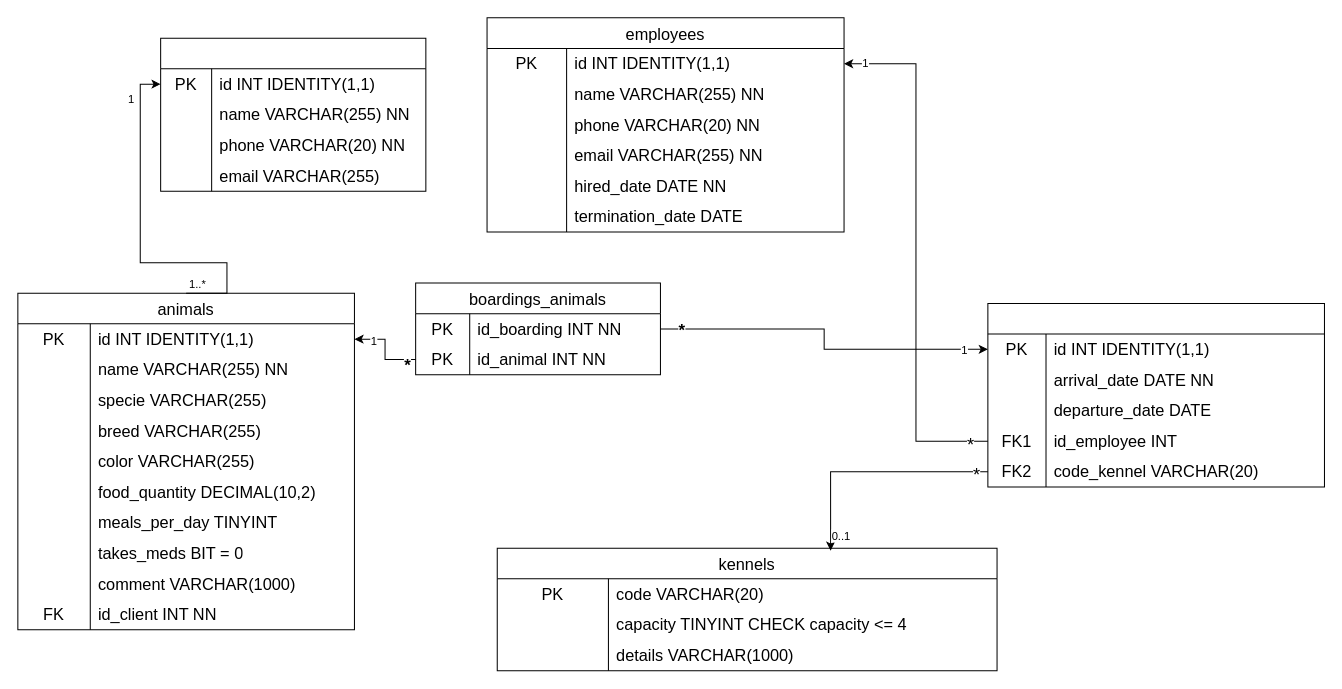
The diagram is 1342 pixels wide and 689 high, and some of its shapes have lost their labels. Here are the shapes that lost their labels. From the top down, the box of each, then its label:
(160, 37, 426, 191): clients
(987, 302, 1324, 487): boardings
